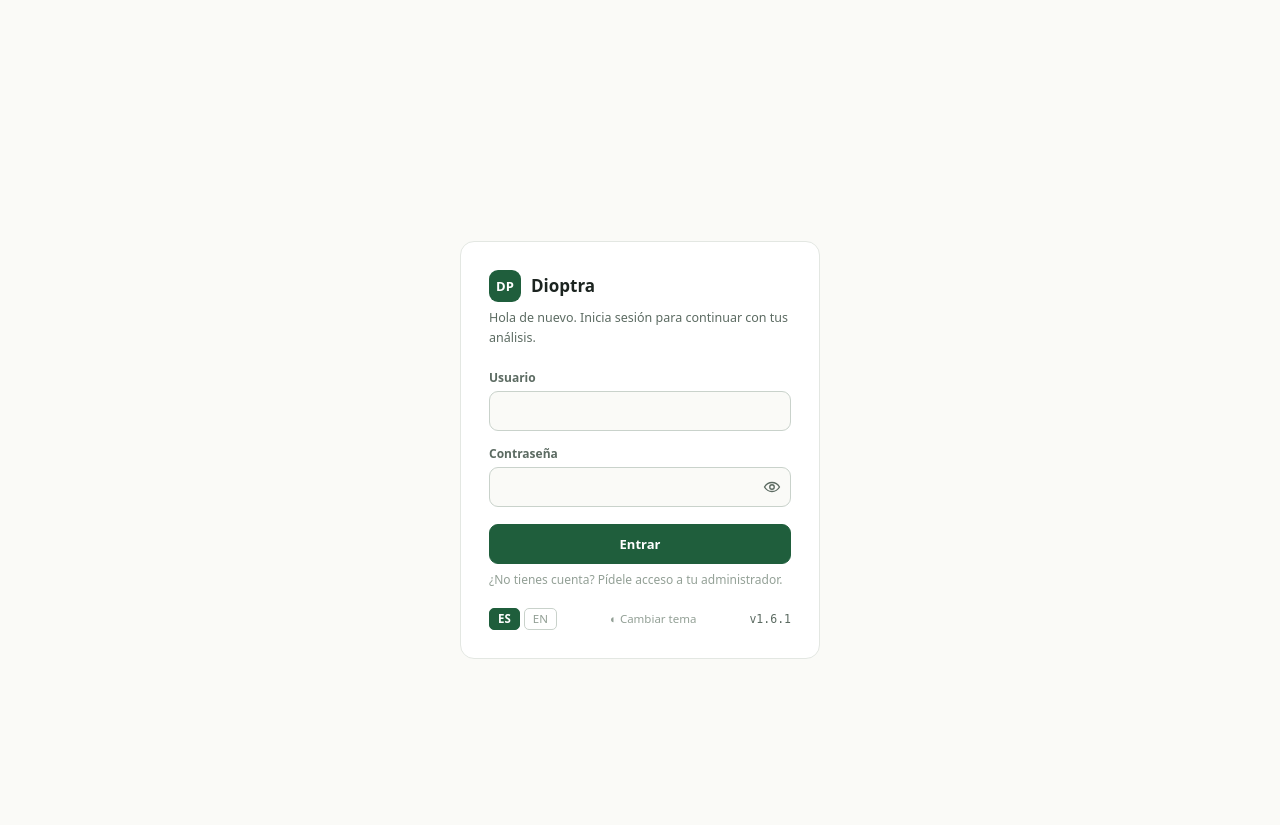
Test: test plan screen › shows the ranking from the server in plain words with the stepper at Plan
Type "cperez" into the field labelled "Usuario" at (640, 411), box [489,391,791,431]
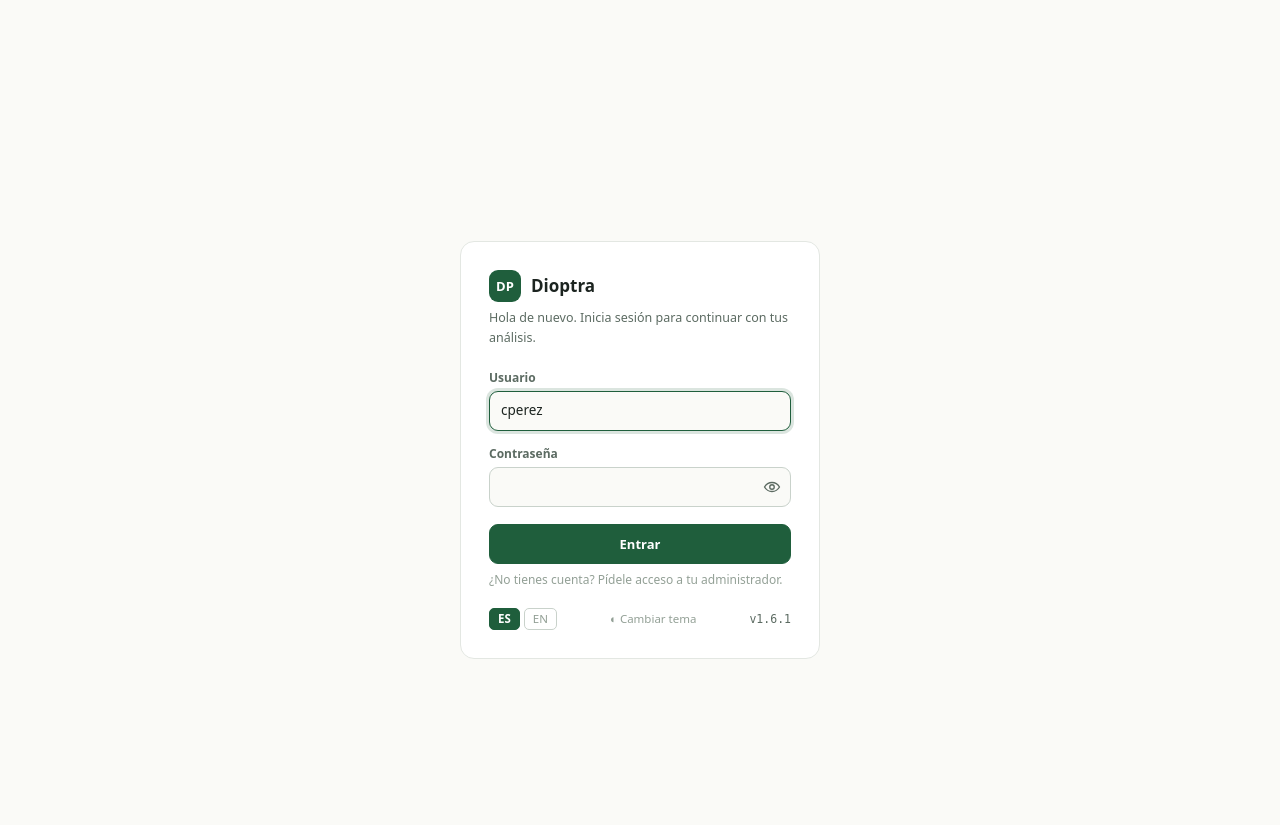
Type "correct-horse-battery-staple" into the password field labelled "Contraseña" at (640, 487), box [489,467,791,507]
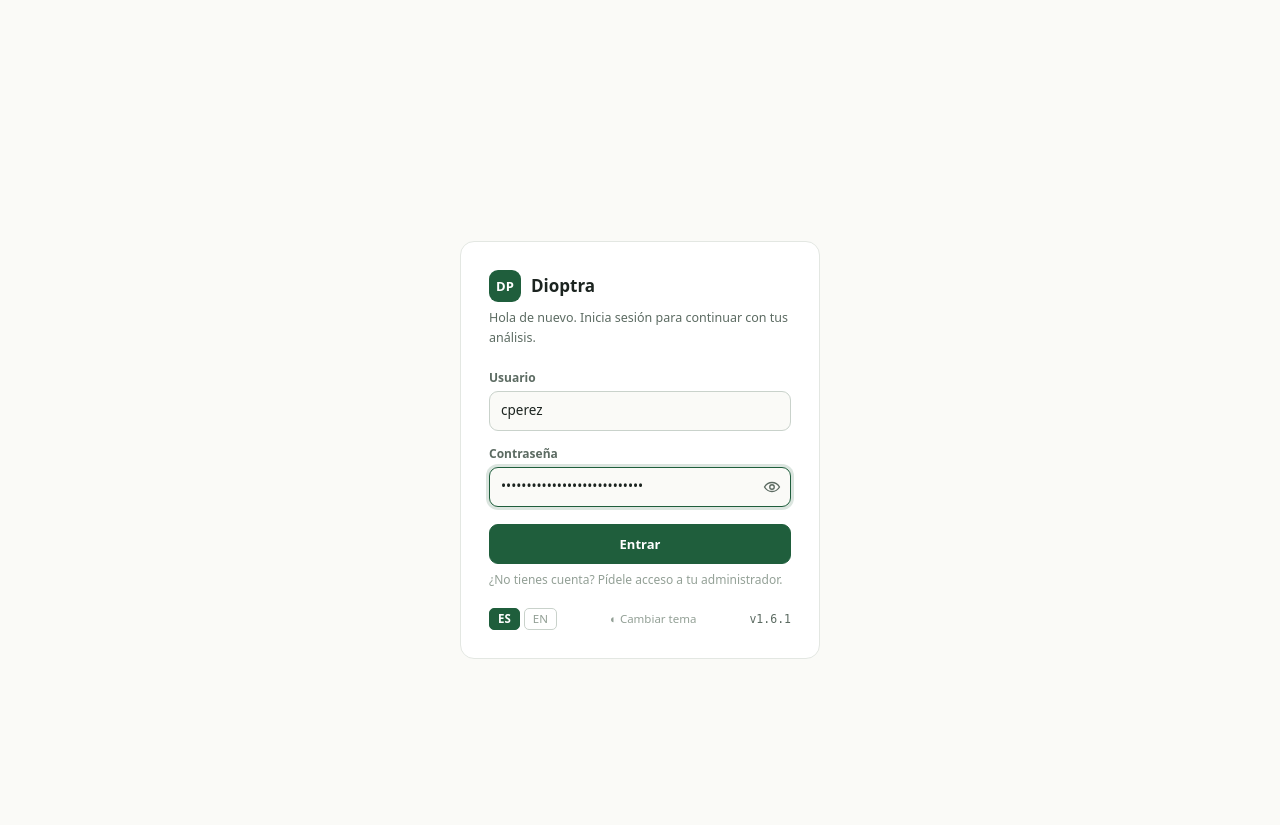
Click the button "Entrar" at (640, 544), box [489,524,791,564]
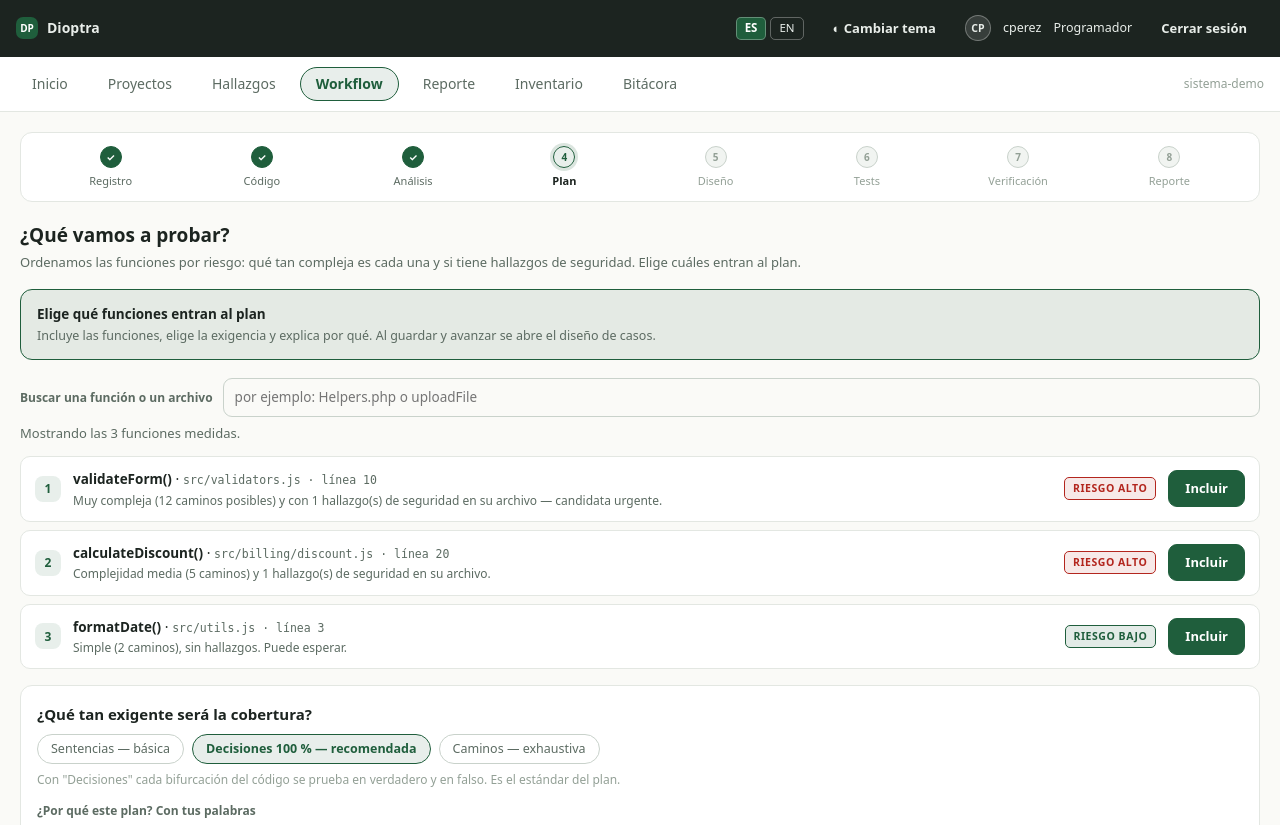
Check: the heading "¿Qué vamos a probar?" is shown, box [20,222,230,248]
Check: the list item that starts with "validateForm" shows "validateForm()", box [73,470,163,488]
Check: the list item that starts with "validateForm" shows "Riesgo alto", box [1073,481,1147,495]
